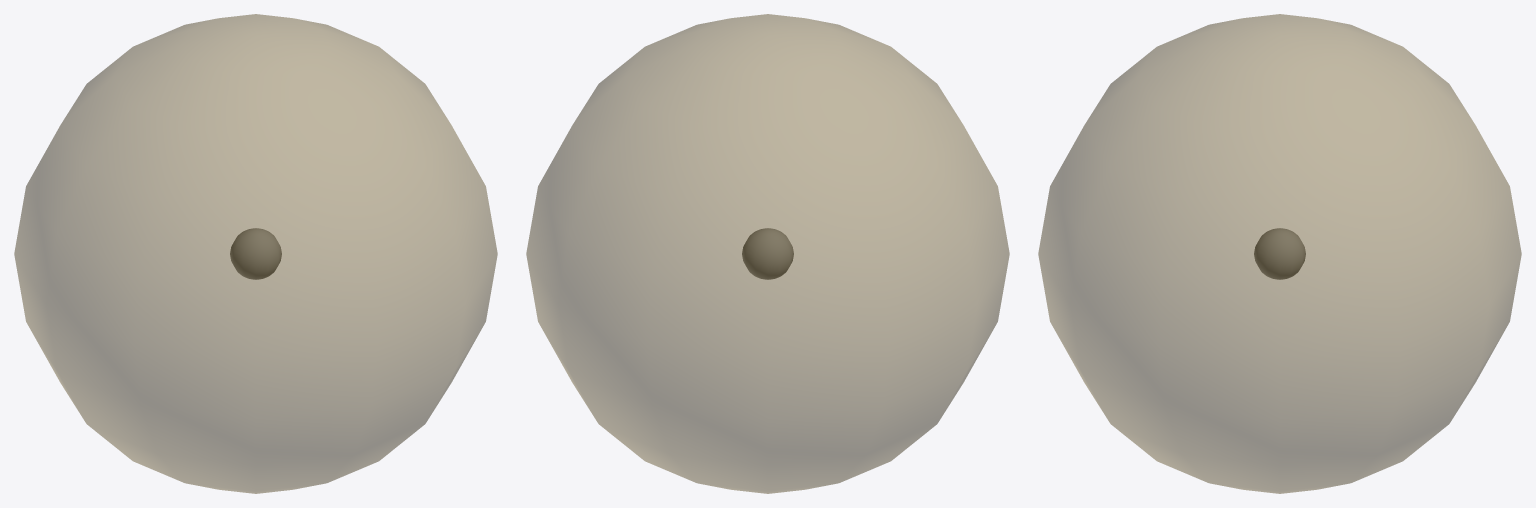
The model's file is Gold_Atom.gltf.
The picture shows the model from 3 angles, left to right: view 1: azimuth 30°, elevation 25°; view 2: azimuth 150°, elevation 25°; view 3: azimuth 270°, elevation 25°; orthographic projection.
Visible parts, largest first — view 1: Gold_Atom, Gold_Nucleus; view 2: Gold_Atom, Gold_Nucleus; view 3: Gold_Atom, Gold_Nucleus.
Part boxes in pixels (x1,y1,x2,y2): Gold_Atom: (14, 14, 497, 493); Gold_Nucleus: (230, 228, 281, 279); Gold_Atom: (526, 14, 1009, 493); Gold_Nucleus: (742, 228, 793, 279); Gold_Atom: (1038, 14, 1521, 493); Gold_Nucleus: (1254, 228, 1305, 279).
Bounding box in the file's own units: 35.59 × 35.59 × 35.59.
